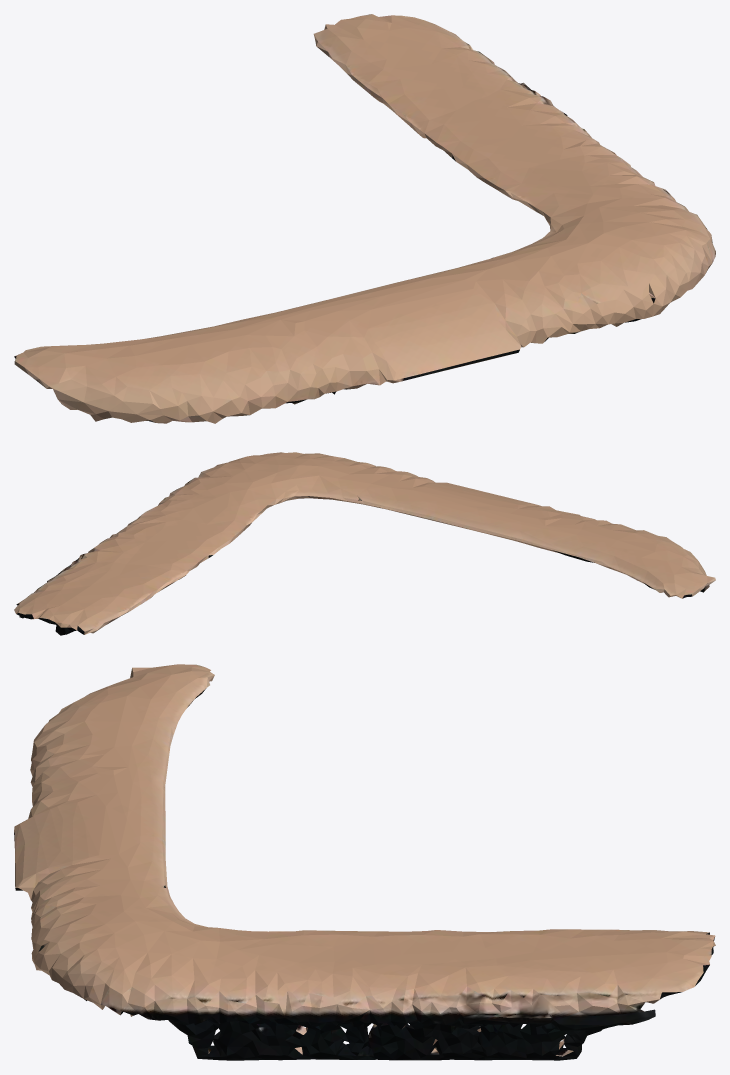
The model's file is foro_sol.glb.
3 renders of one model, top to bottom at view 1: azimuth 30°, elevation 25°; view 2: azimuth 150°, elevation 25°; view 3: azimuth 270°, elevation 25°, orthographic. The views are drawn at different scales.
Parts seen in each view (by area): view 1: tmpko2wtu4u.ply; view 2: tmpko2wtu4u.ply; view 3: tmpko2wtu4u.ply.
Part boxes in pixels (x1,y1,x2,y2): tmpko2wtu4u.ply: (14,14,715,423); tmpko2wtu4u.ply: (14,452,715,635); tmpko2wtu4u.ply: (14,664,715,1060).
Bounding box in the file's own units: 1.99 × 0.2537 × 1.77.
1 material, 1 textured.
